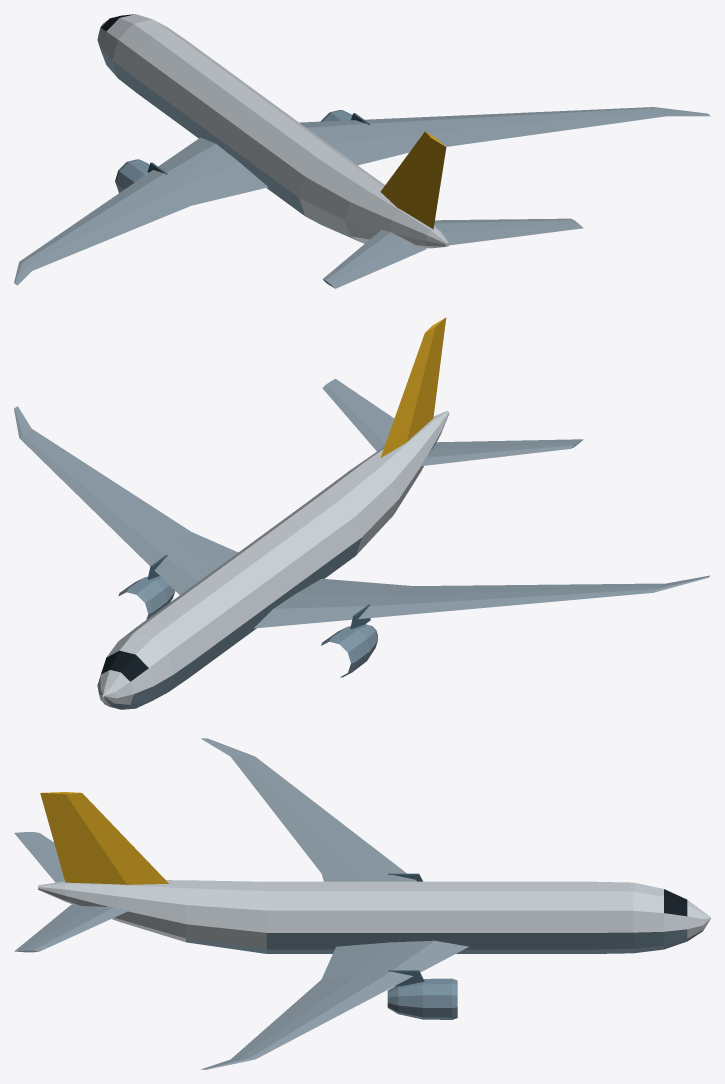
3 renders of one model, top to bottom at view 1: azimuth 30°, elevation 25°; view 2: azimuth 150°, elevation 25°; view 3: azimuth 270°, elevation 25°, orthographic. The views are drawn at different scales.
Visible parts, largest first — view 1: lod0; view 2: lod0; view 3: lod0.
Part boxes in pixels (x1,y1,x2,y2): lod0: [14, 14, 710, 288]; lod0: [14, 317, 710, 709]; lod0: [14, 738, 710, 1069].
Size of what is drawn, in the model's own units: 1.12 by 0.2786 by 1.
